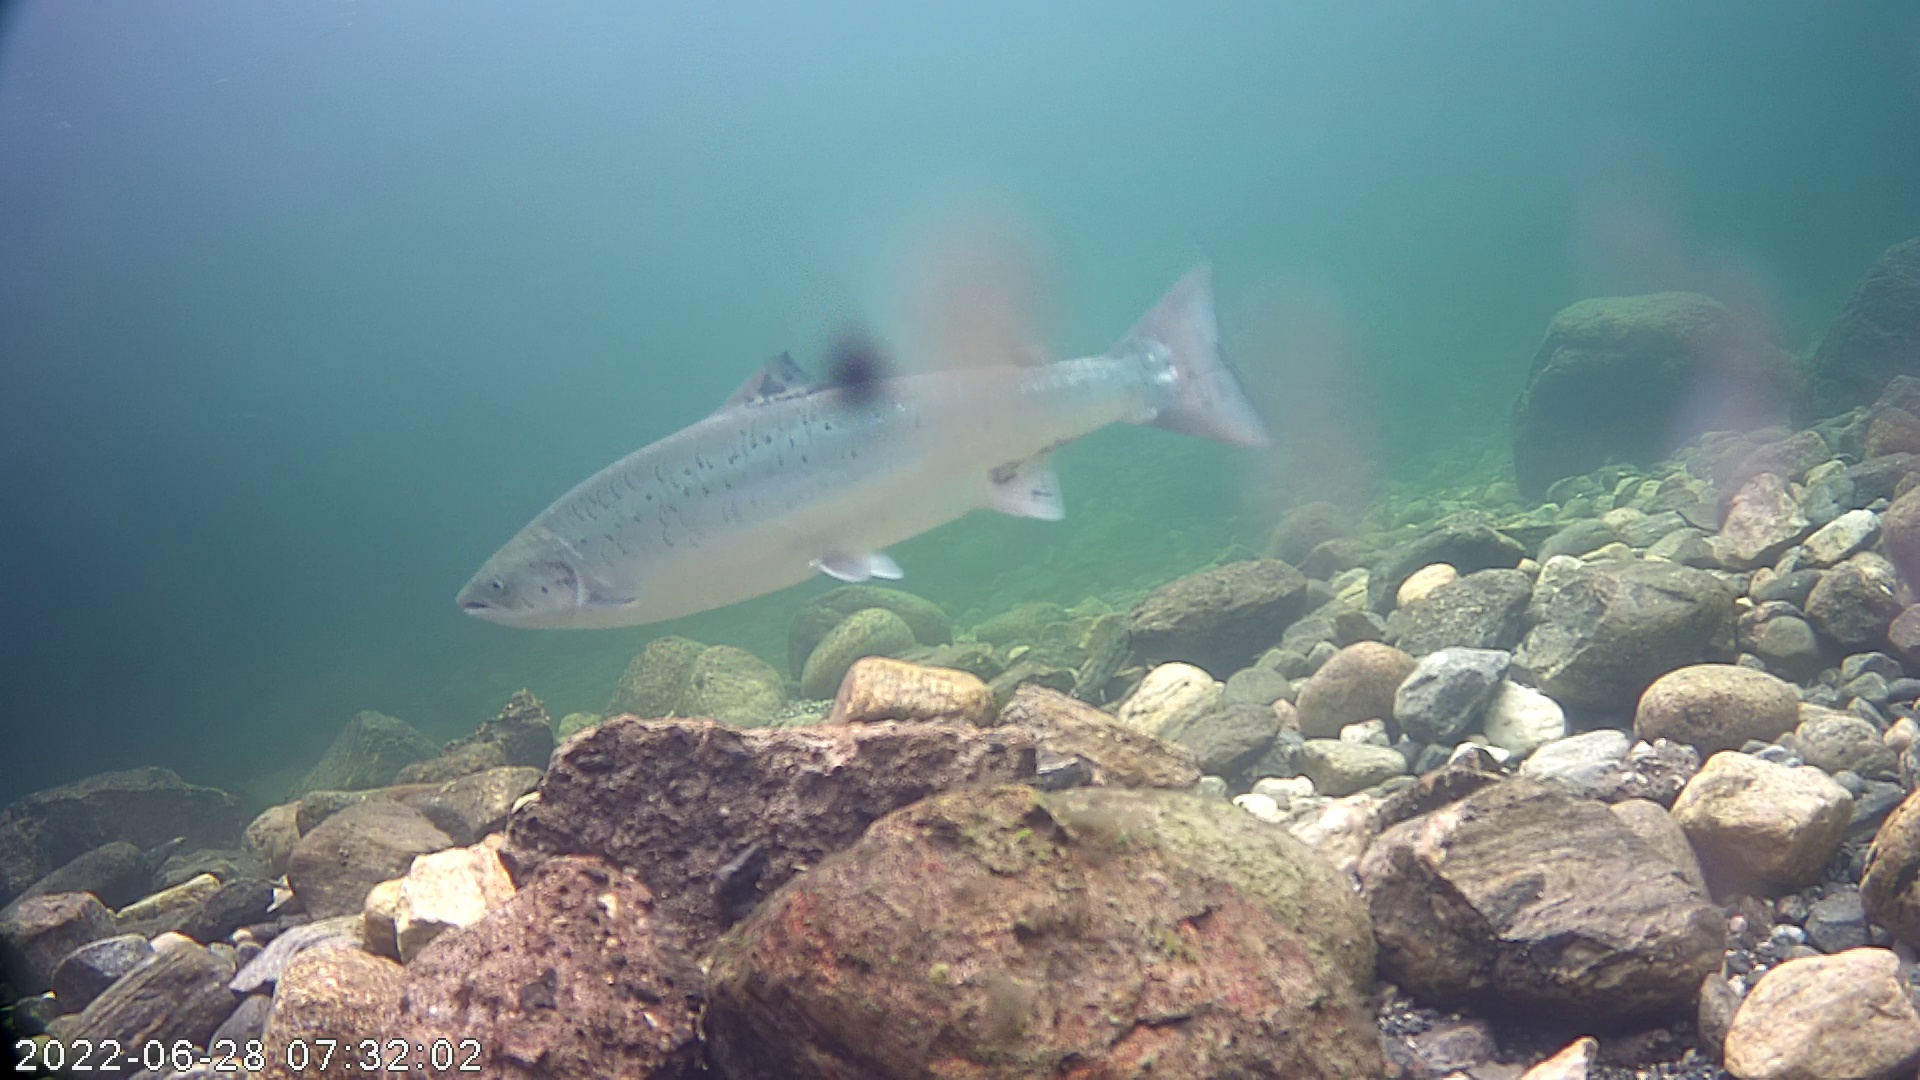salmon: (452, 214, 1291, 647)
